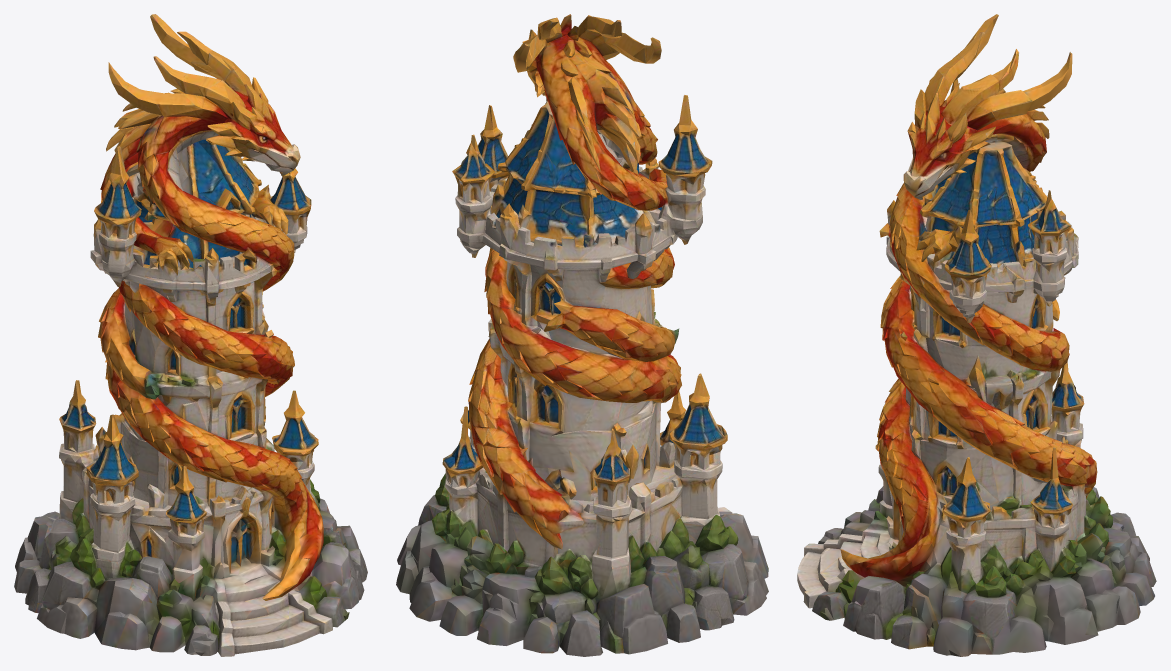
Rendered from tower.glb.
The picture shows the model from 3 angles, left to right: view 1: azimuth 30°, elevation 25°; view 2: azimuth 150°, elevation 25°; view 3: azimuth 270°, elevation 25°; orthographic projection. The views are drawn at different scales.
Bounding box in the file's own units: 1.16 × 1.9 × 1.16.
1 material, 1 textured.
